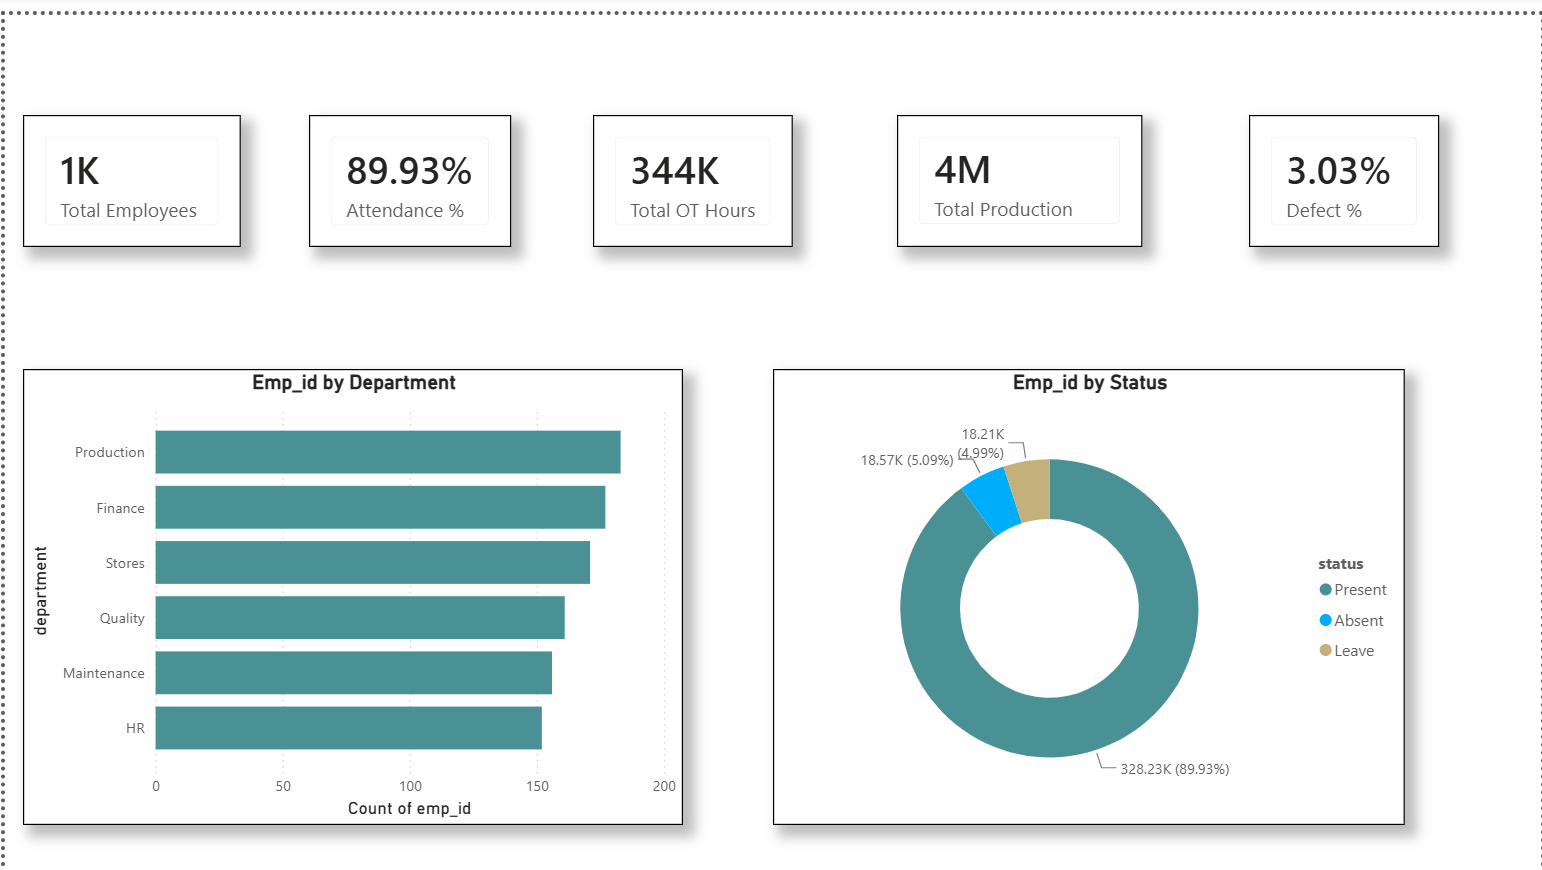

This screenshot's page, from the dashboard's own definition file:
{"tool":"powerbi","page":{"name":"Executive Summary","canvas":[1280,720],"ordinal":0},"visuals":[{"type":"cardVisual","fields":{"Data":["public employees.Total Employees"]},"box":[15,83.3,181.7,110],"z":0},{"type":"cardVisual","fields":{"Data":["public attendance.Attendance %"]},"box":[253.3,83.3,168.3,110],"z":1000},{"type":"cardVisual","fields":{"Data":["public overtime.Total OT Hours"]},"box":[490,83.3,166.7,110],"z":2000},{"type":"cardVisual","fields":{"Data":["public production.Total Production"]},"box":[744.1,83.3,204.5,109.8],"z":3000},{"type":"cardVisual","fields":{"Data":["public quality.Defect %"]},"box":[1036.7,83.3,158.3,110],"z":4000},{"type":"clusteredBarChart","title":"Emp_id by Department","fields":{"Category":["public employees.department"],"Y":["CountNonNull(public employees.emp_id)"]},"box":[15,295,550,380],"z":5000},{"type":"donutChart","title":"Emp_id by Status","fields":{"Category":["public attendance.status"],"Y":["CountNonNull(public attendance.emp_id)"]},"box":[640,295,526.7,380],"z":6000}]}

Visuals, with their boxes in screenshot pixels (x1, y1, x2, y2), scaled from the page's 1280x720 canvas onto the 1542x870 screenshot:
cardVisual - public employees.Total Employees: bbox(18, 101, 237, 234)
cardVisual - public attendance.Attendance %: bbox(305, 101, 508, 234)
cardVisual - public overtime.Total OT Hours: bbox(590, 101, 791, 234)
cardVisual - public production.Total Production: bbox(896, 101, 1143, 233)
cardVisual - public quality.Defect %: bbox(1249, 101, 1440, 234)
"Emp_id by Department" clusteredBarChart: bbox(18, 356, 681, 816)
"Emp_id by Status" donutChart: bbox(771, 356, 1406, 816)
